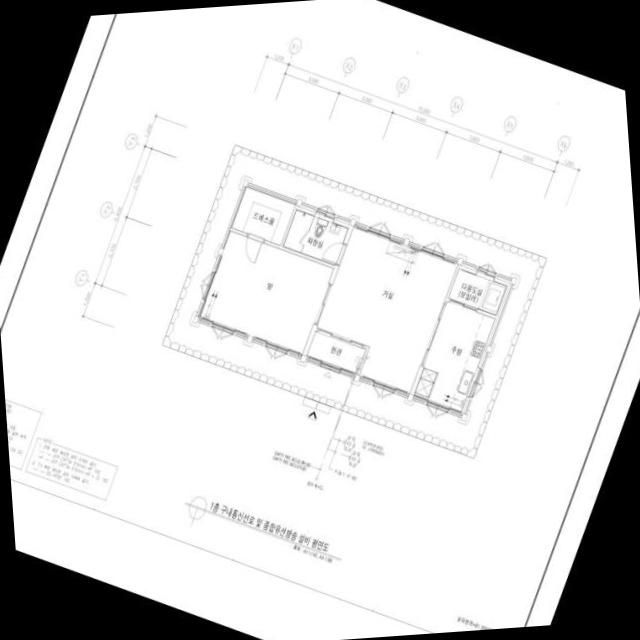background: (0, 0, 640, 640)
space_bedroom: (199, 231, 333, 356)
space_dressroom: (230, 185, 296, 246)
space_front: (305, 330, 366, 376)
space_kitchen: (413, 301, 495, 411)
space_living_room: (316, 227, 457, 394)
space_multipurpose_space: (447, 268, 506, 316)
space_toilet: (301, 213, 347, 265), (282, 208, 314, 253)
